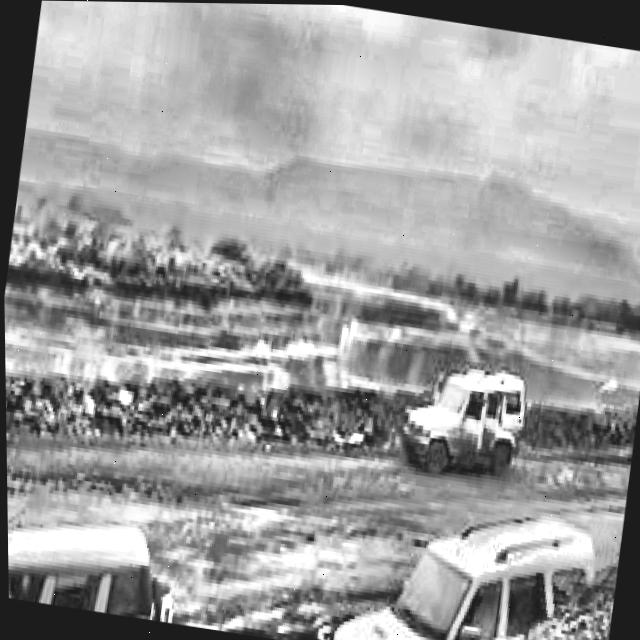light_vehicle: (343, 503, 597, 640), (6, 490, 170, 621), (398, 352, 531, 480)
